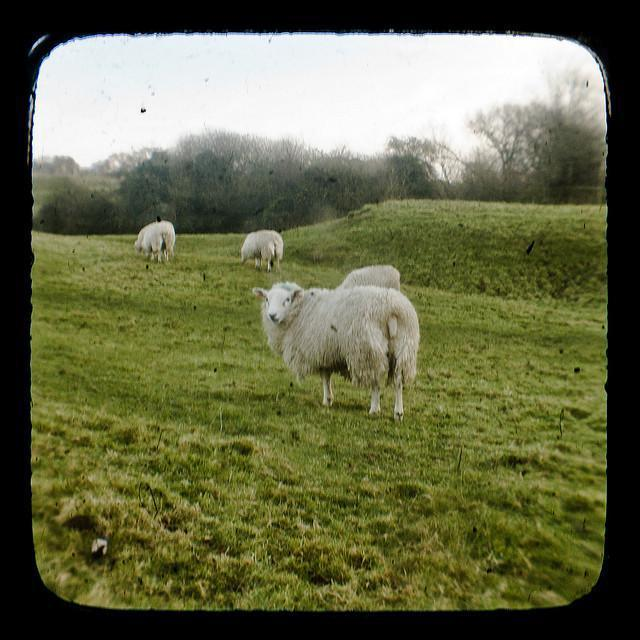Sheep: (251, 281, 421, 423), (134, 220, 178, 267), (242, 231, 285, 273)
